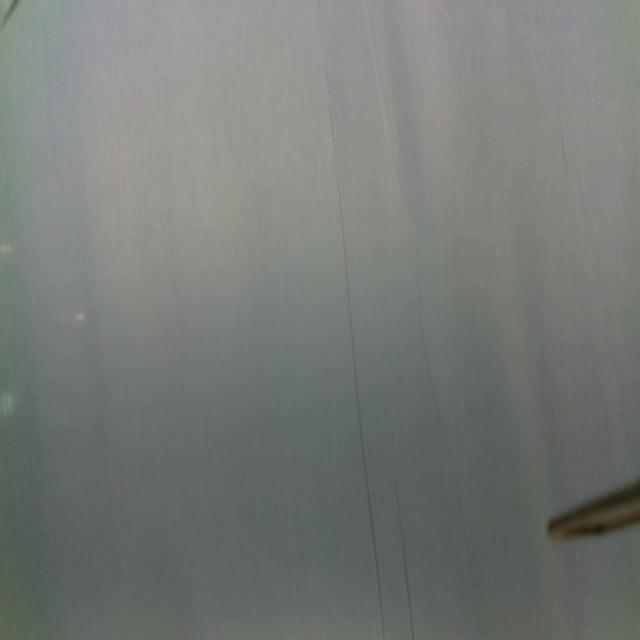crease: (316, 1, 385, 639), (363, 6, 395, 152), (392, 456, 416, 640), (415, 307, 447, 433)
